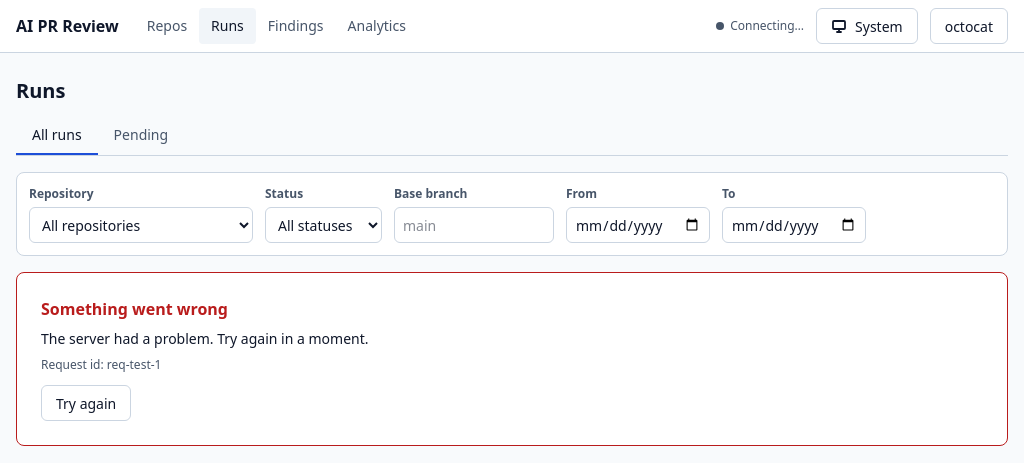
Test: Runs page › shows an error with a retry
This screenshot has width=1024, height=463.
Expected: the message shows "server had a problem", [41,329,368,348]
What coordinates should you click on to do the following:
click the button "Try again"
I would click on:
 (86, 403)
Its box is [41,385,131,421].
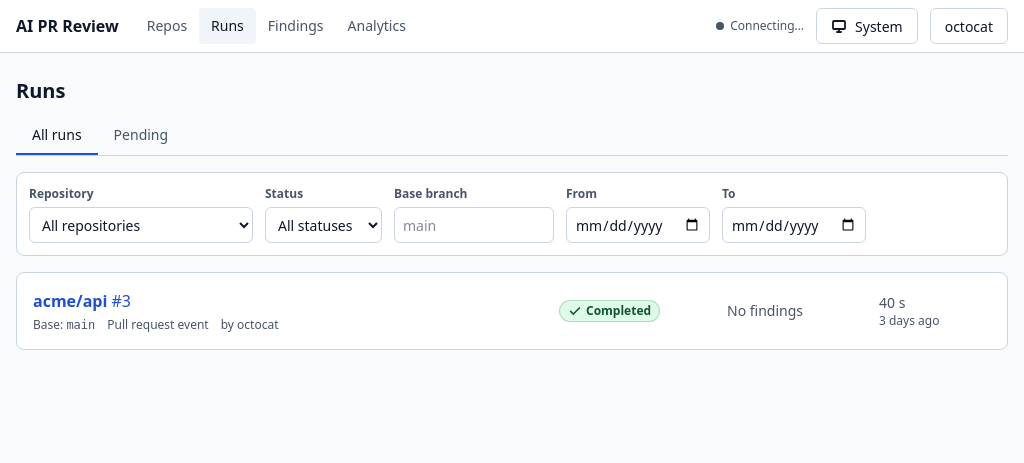
Now the link "acme/api #3" is shown, box [33,290,131,312]
